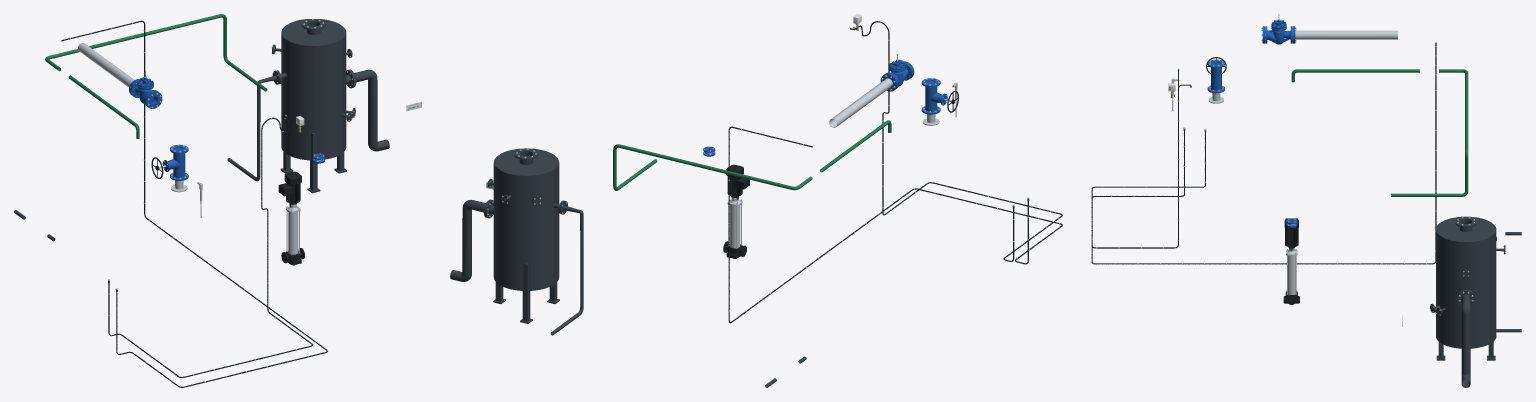
The picture shows the model from 3 angles, left to right: view 1: azimuth 30°, elevation 25°; view 2: azimuth 150°, elevation 25°; view 3: azimuth 270°, elevation 25°; orthographic projection. The views are drawn at different scales.
Parts seen in each view (by area): view 1: separator_bdv60_5 / dark, mod_direct_drive_cable / black, to_direct / green, bdv_water_drain / dark, wiring_pressure_switch_3 / black, bottom_to_bdv / dark, steam_delivery / steel, steam_manual / blue, pump_1 CAD solid 15, gpz CAD solid 0, pump_1 CAD solid 2, direct_inlet / green; view 2: separator_bdv60_5 / dark, mod_direct_drive_cable / black, to_direct / green, bdv_water_drain / dark, wiring_pressure_switch_3 / black, steam_delivery / steel, bottom_to_bdv / dark, steam_manual / blue, pump_1 CAD solid 15; view 3: separator_bdv60_5 / dark, mod_direct_drive_cable / black, bdv_water_drain / dark, steam_delivery / steel, to_direct / green, wiring_pressure_switch_3 / black, direct_inlet / green, gpz CAD solid 0, steam_manual / blue.
Boxes of the visible parts, x1=… form: separator_bdv60_5 / dark: x1=272, y1=19, x2=355, y2=193; mod_direct_drive_cable / black: x1=61, y1=20, x2=327, y2=387; to_direct / green: x1=45, y1=14, x2=267, y2=91; bdv_water_drain / dark: x1=348, y1=69, x2=389, y2=151; wiring_pressure_switch_3 / black: x1=108, y1=115, x2=312, y2=377; bottom_to_bdv / dark: x1=227, y1=71, x2=280, y2=181; steam_delivery / steel: x1=78, y1=43, x2=134, y2=87; steam_manual / blue: x1=162, y1=144, x2=188, y2=180; pump_1 CAD solid 15: x1=278, y1=171, x2=301, y2=203; gpz CAD solid 0: x1=130, y1=71, x2=156, y2=105; pump_1 CAD solid 2: x1=288, y1=212, x2=298, y2=254; direct_inlet / green: x1=68, y1=75, x2=139, y2=138; separator_bdv60_5 / dark: x1=485, y1=148, x2=563, y2=323; mod_direct_drive_cable / black: x1=728, y1=126, x2=1062, y2=323; to_direct / green: x1=613, y1=144, x2=812, y2=190; bdv_water_drain / dark: x1=450, y1=199, x2=491, y2=281; wiring_pressure_switch_3 / black: x1=851, y1=21, x2=1062, y2=261; steam_delivery / steel: x1=829, y1=78, x2=892, y2=127; bottom_to_bdv / dark: x1=550, y1=200, x2=583, y2=335; steam_manual / blue: x1=921, y1=78, x2=947, y2=114; pump_1 CAD solid 15: x1=726, y1=164, x2=749, y2=197; separator_bdv60_5 / dark: x1=1430, y1=216, x2=1505, y2=360; mod_direct_drive_cable / black: x1=1091, y1=42, x2=1436, y2=264; bdv_water_drain / dark: x1=1457, y1=290, x2=1474, y2=387; steam_delivery / steel: x1=1295, y1=30, x2=1397, y2=39; to_direct / green: x1=1391, y1=69, x2=1468, y2=196; wiring_pressure_switch_3 / black: x1=1091, y1=68, x2=1205, y2=248; direct_inlet / green: x1=1291, y1=69, x2=1419, y2=82; gpz CAD solid 0: x1=1265, y1=14, x2=1292, y2=44; steam_manual / blue: x1=1207, y1=59, x2=1224, y2=93.
Bounding box in the file's own units: 5.75 × 3.18 × 5.43.
